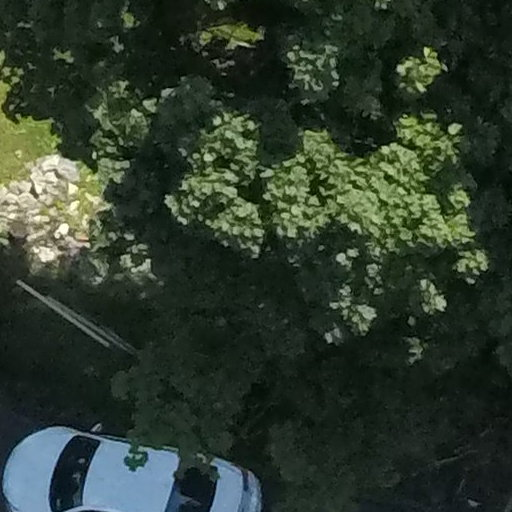car: (2, 405, 274, 512)
